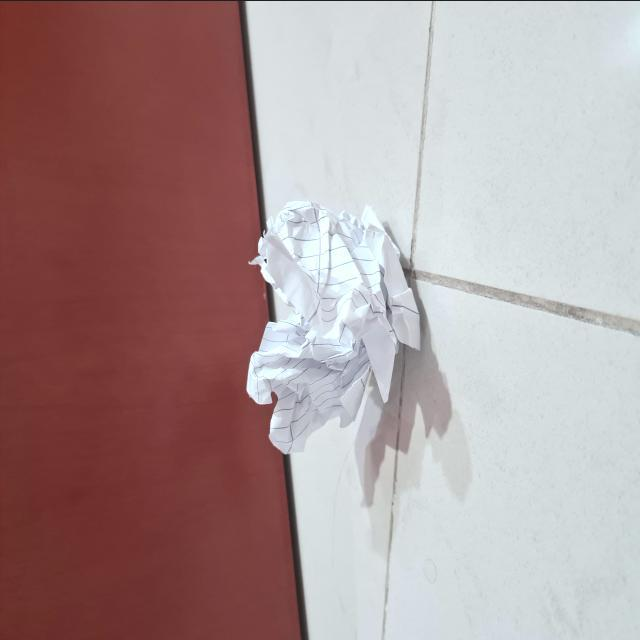Paper: (243, 194, 422, 482)
